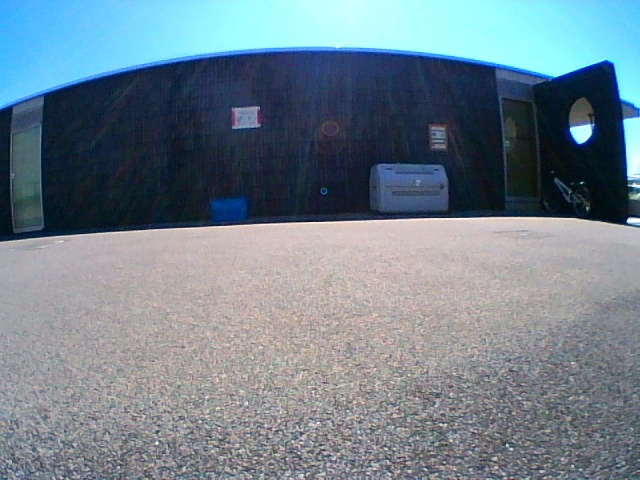blue_box: (211, 197, 245, 220)
